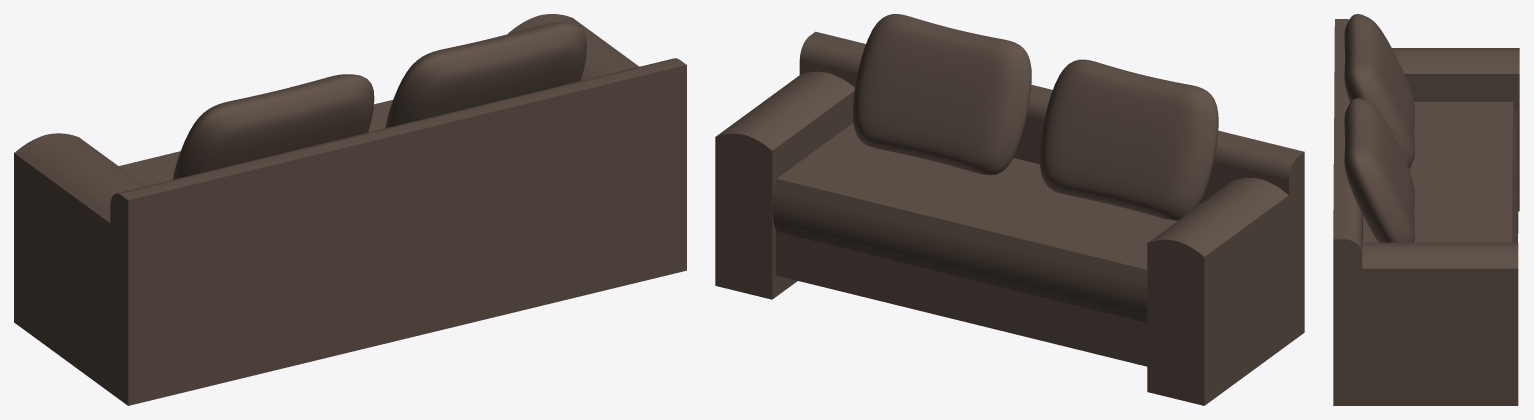
Rendered from Canape1_5.fbx.
The picture shows the model from 3 angles, left to right: view 1: azimuth 30°, elevation 25°; view 2: azimuth 150°, elevation 25°; view 3: azimuth 270°, elevation 25°; orthographic projection. The views are drawn at different scales.
Parts seen in each view (by area): view 1: pCube1068, pCube2517, pCube2516, pCube2518; view 2: pCube1068, pCube2518, pCube2517, pCube2516, pCube2515; view 3: pCube1068, pCube2518, pCube2517, pCube2516.
Part boxes in pixels (left/top/right/bottom): pCube1068: left=14, top=14, right=686, bottom=405; pCube2517: left=385, top=22, right=586, bottom=128; pCube2516: left=172, top=74, right=374, bottom=179; pCube2518: left=119, top=100, right=392, bottom=186; pCube1068: left=715, top=31, right=1304, bottom=405; pCube2518: left=772, top=123, right=1200, bottom=322; pCube2517: left=852, top=14, right=1031, bottom=175; pCube2516: left=1039, top=59, right=1218, bottom=220; pCube2515: left=775, top=231, right=1147, bottom=366; pCube1068: left=1333, top=19, right=1519, bottom=405; pCube2518: left=1362, top=102, right=1518, bottom=242; pCube2517: left=1344, top=98, right=1414, bottom=242; pCube2516: left=1344, top=14, right=1414, bottom=168.
Size of the model in its own units: 166 by 74.66 by 59.34.
